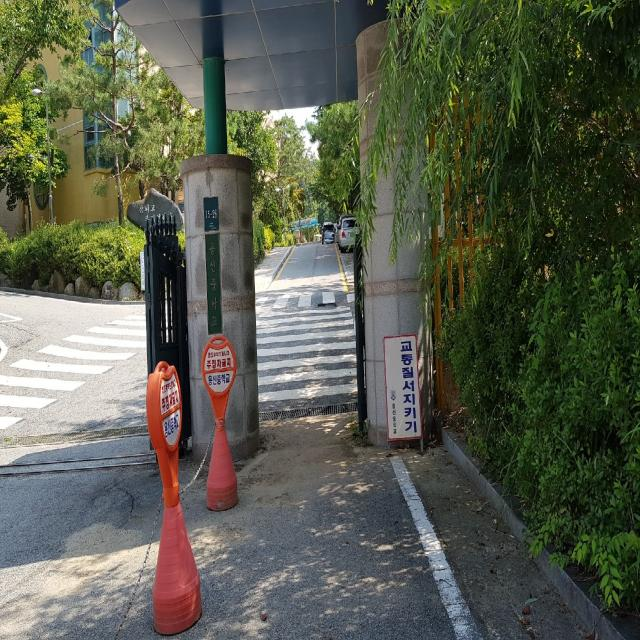횡단보도: (0, 306, 139, 426), (254, 305, 358, 405)
